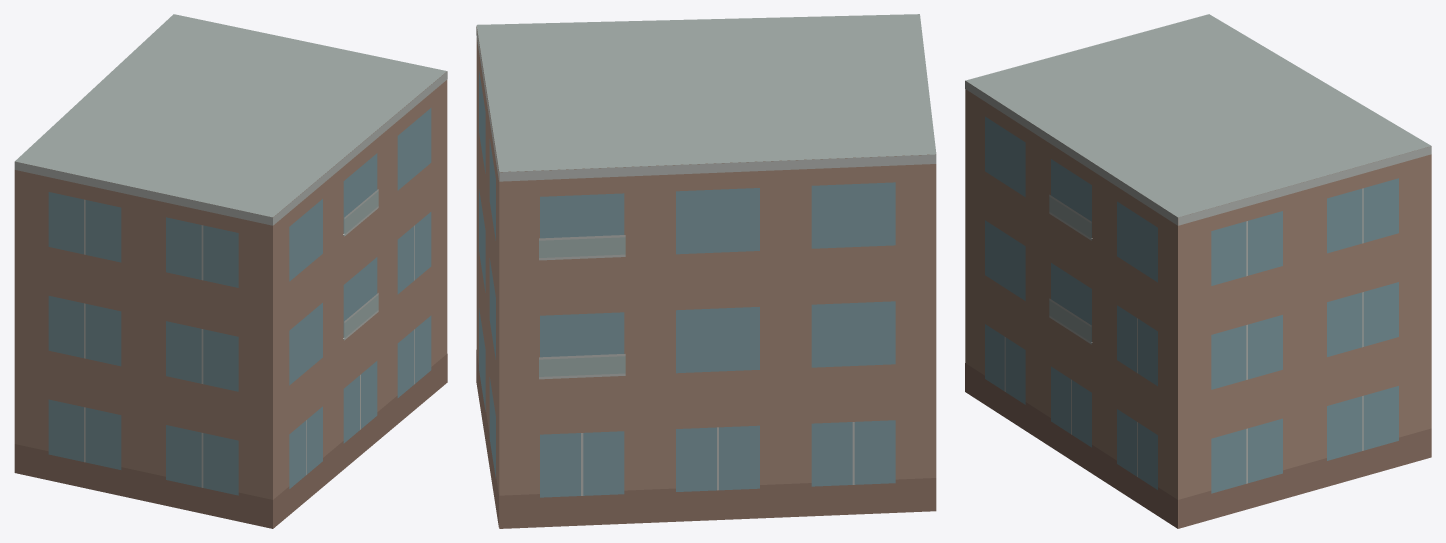
The model's file is survey-upis-32986050.glb.
The picture shows the model from 3 angles, left to right: view 1: azimuth 30°, elevation 25°; view 2: azimuth 150°, elevation 25°; view 3: azimuth 270°, elevation 25°; orthographic projection. The views are drawn at different scales.
Parts seen in each view (by area): view 1: survey-upis-32986050.tmp; view 2: survey-upis-32986050.tmp; view 3: survey-upis-32986050.tmp.
Part boxes in pixels (left/top/right/bottom): survey-upis-32986050.tmp: left=14, top=14, right=447, bottom=528; survey-upis-32986050.tmp: left=476, top=14, right=936, bottom=528; survey-upis-32986050.tmp: left=965, top=14, right=1431, bottom=528.
Bounding box in the file's own units: 12.83 × 9.15 × 12.43.
